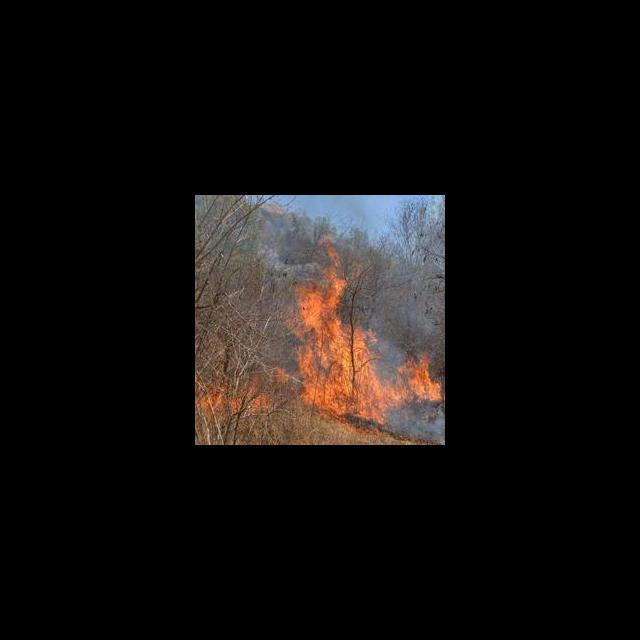Fire: (278, 248, 386, 435), (387, 352, 442, 409), (195, 384, 272, 414)
Smoke: (386, 412, 444, 443)
